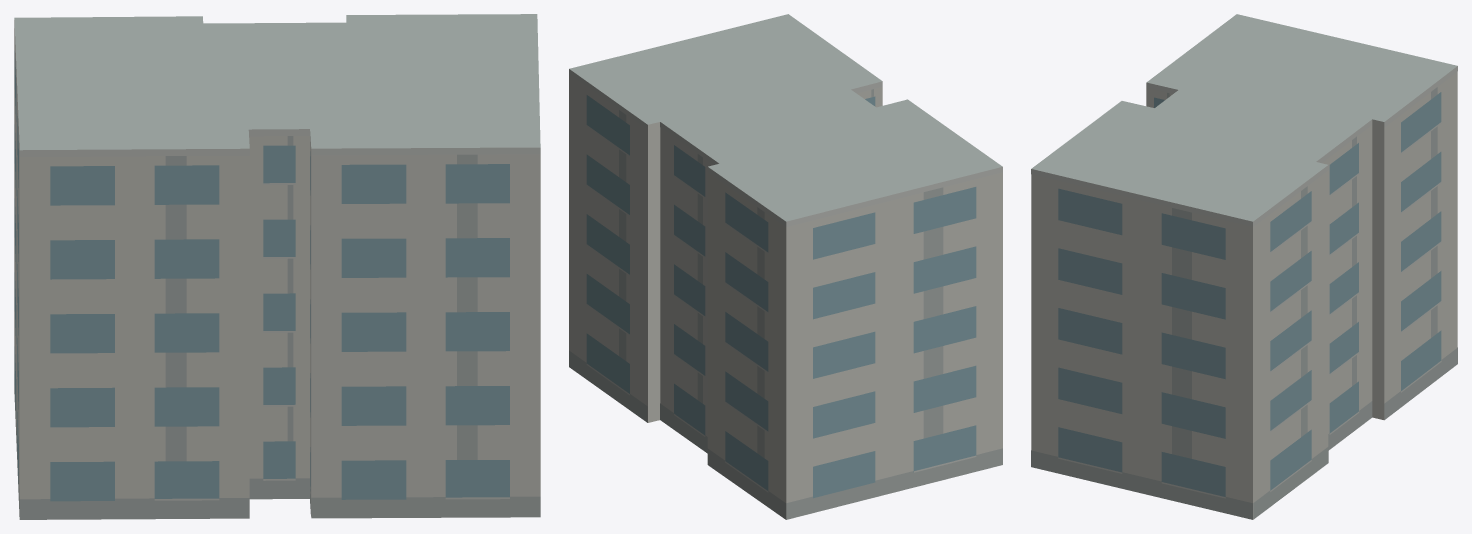
File: survey-upis-32889201.glb
The picture shows the model from 3 angles, left to right: view 1: azimuth 30°, elevation 25°; view 2: azimuth 150°, elevation 25°; view 3: azimuth 270°, elevation 25°; orthographic projection. The views are drawn at different scales.
Visible parts, largest first — view 1: survey-upis-32889201.tmp; view 2: survey-upis-32889201.tmp; view 3: survey-upis-32889201.tmp.
Boxes of the visible parts, <box> form: survey-upis-32889201.tmp: <box>14,14,540,519</box>; survey-upis-32889201.tmp: <box>569,14,1002,519</box>; survey-upis-32889201.tmp: <box>1031,14,1457,519</box>.
Bounding box in the file's own units: 19.87 × 13.3 × 17.26.
